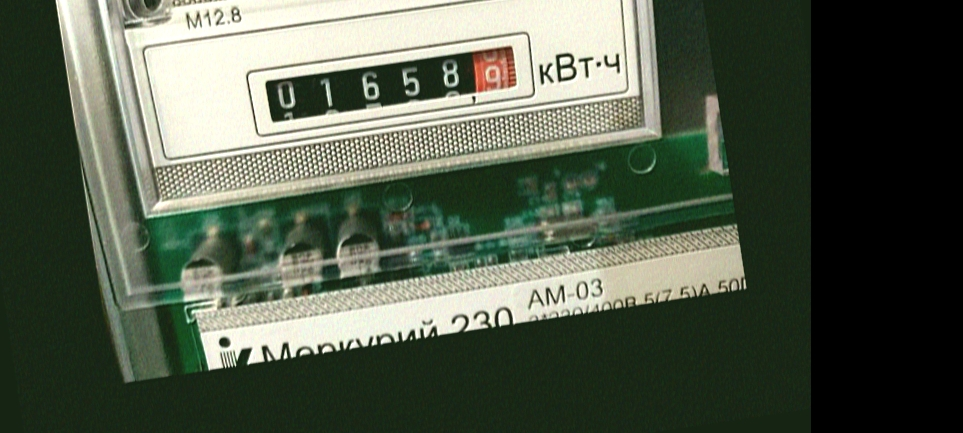0: (274, 78, 298, 111)
1: (317, 75, 338, 109)
5: (398, 64, 423, 98)
6: (358, 67, 383, 103)
8: (438, 55, 463, 90)
9: (480, 63, 505, 94)
screen: (235, 20, 544, 147)
